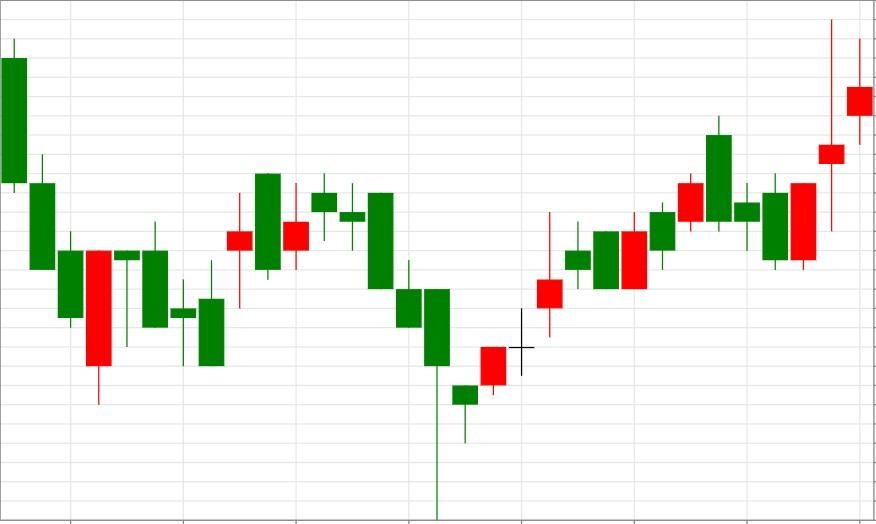bearish_engulfing_fall: (452, 115, 733, 443)
hammer_rise: (311, 173, 479, 520)
